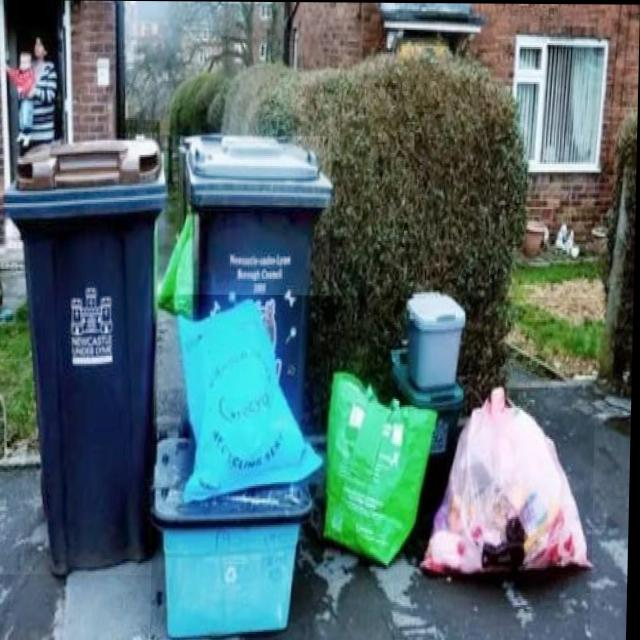garbage: (153, 294, 599, 640)
garbage_bin: (0, 132, 168, 575), (176, 135, 333, 418)
